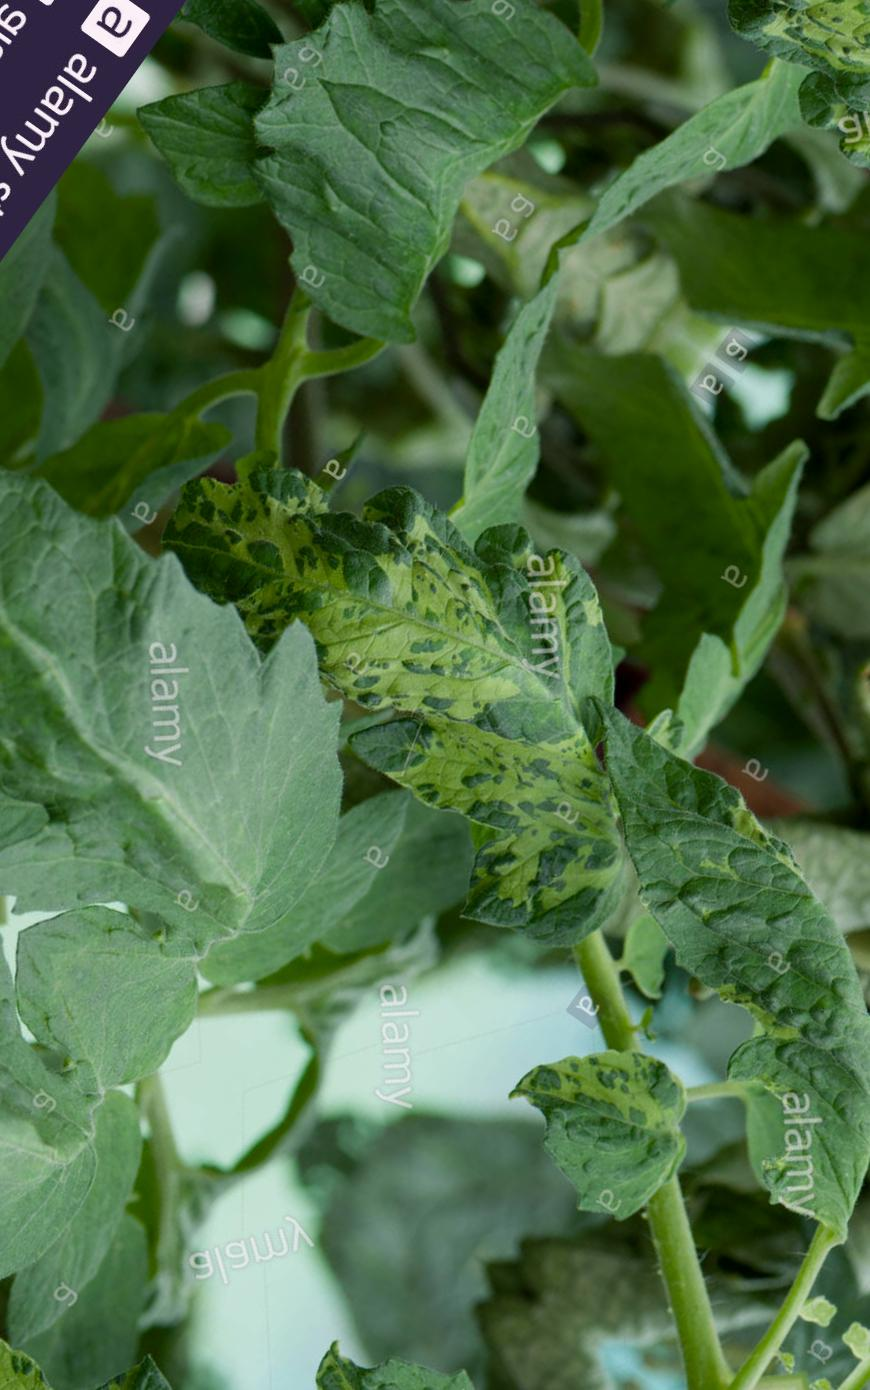Tomato leaf mosaic virus: (90, 349, 810, 989), (0, 387, 457, 1041), (435, 673, 870, 1250), (469, 964, 735, 1231)
